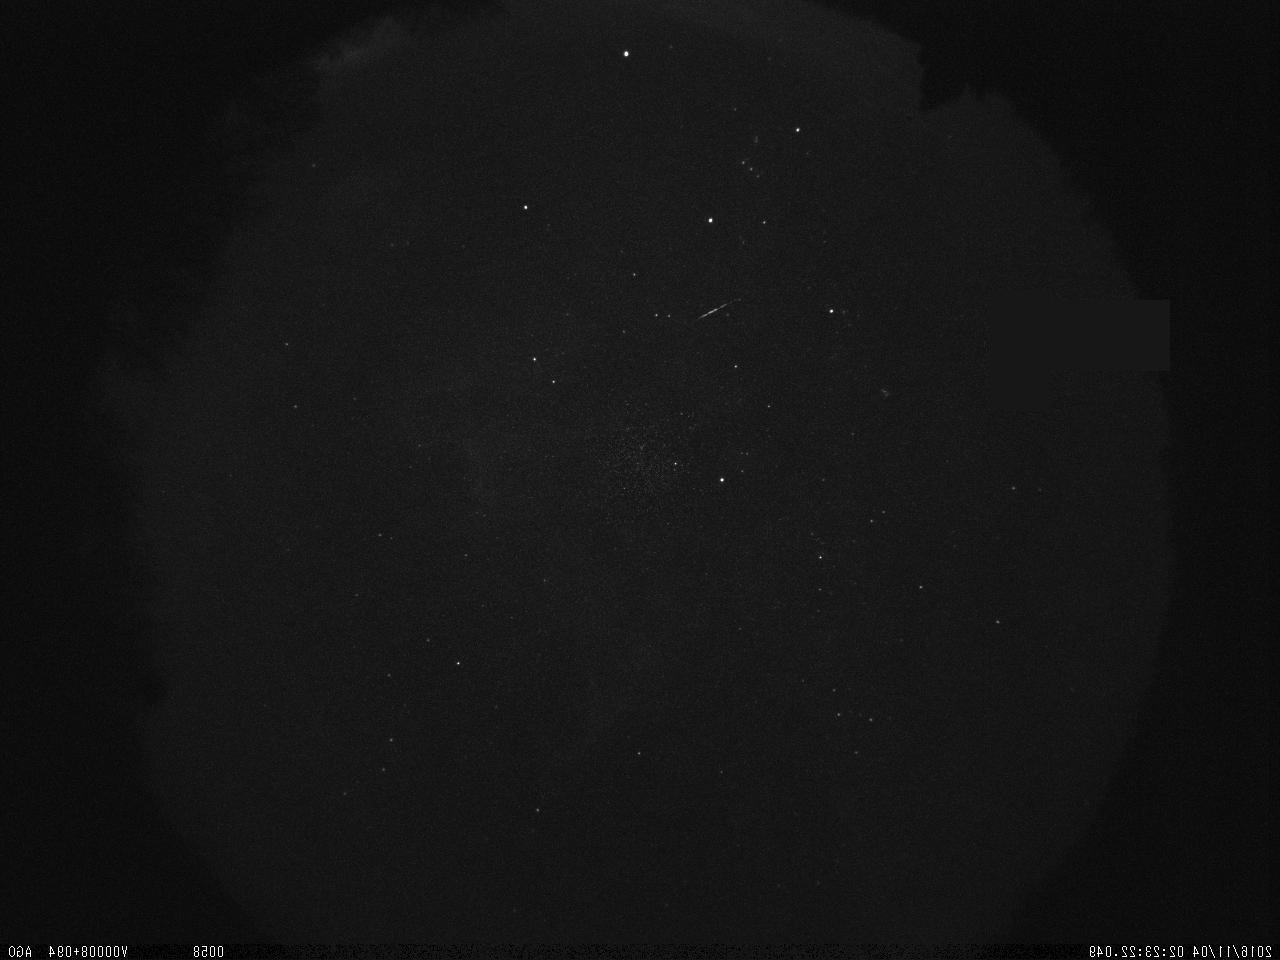meteor: (690, 293, 750, 329)
